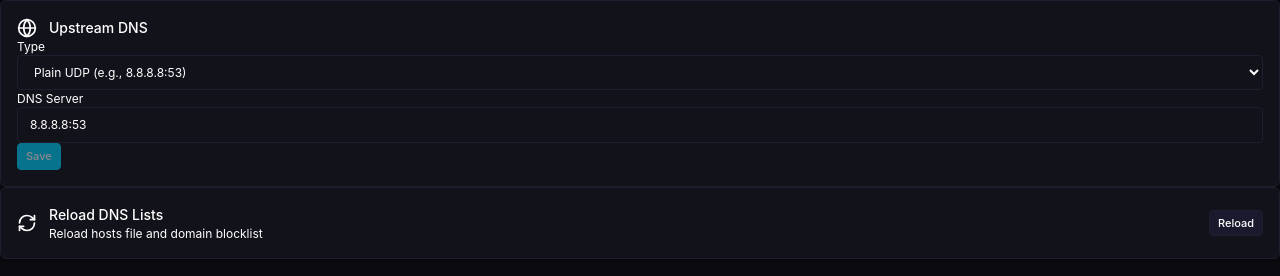
Test: DnsTab › loads and saves the DNS upstream through the typed desktop contract
In the field labelled "DNS Server": (640,125) [17, 107, 1263, 143], type "1.1.1.1:53"
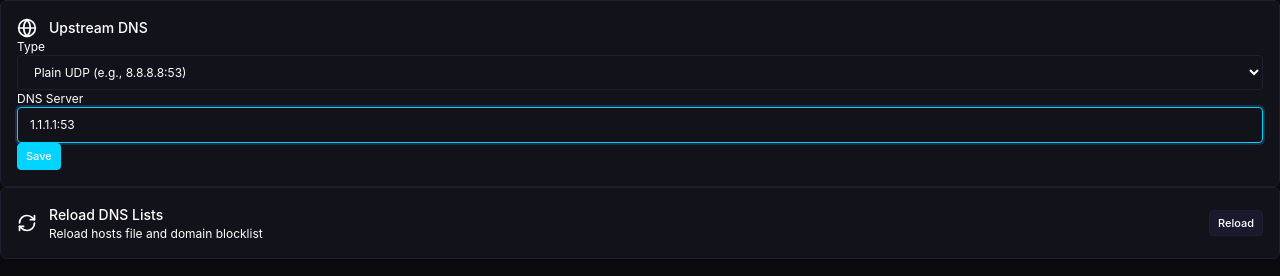
Click the button "Save": (39,157) [17, 143, 61, 170]
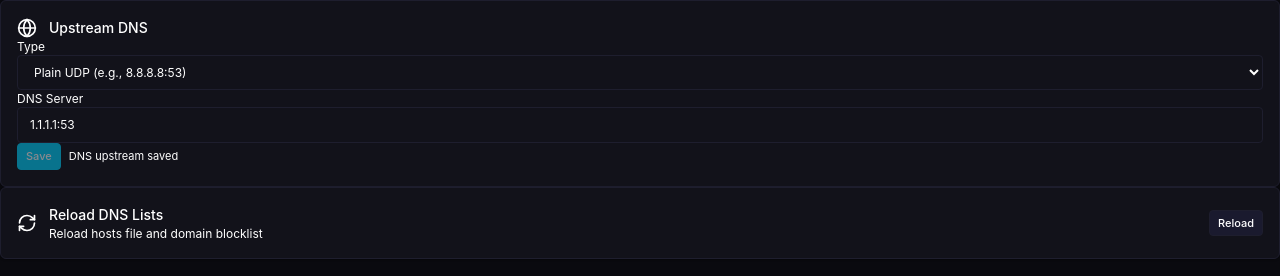
Result: the text "DNS upstream saved" is shown at [69, 149, 178, 164]
